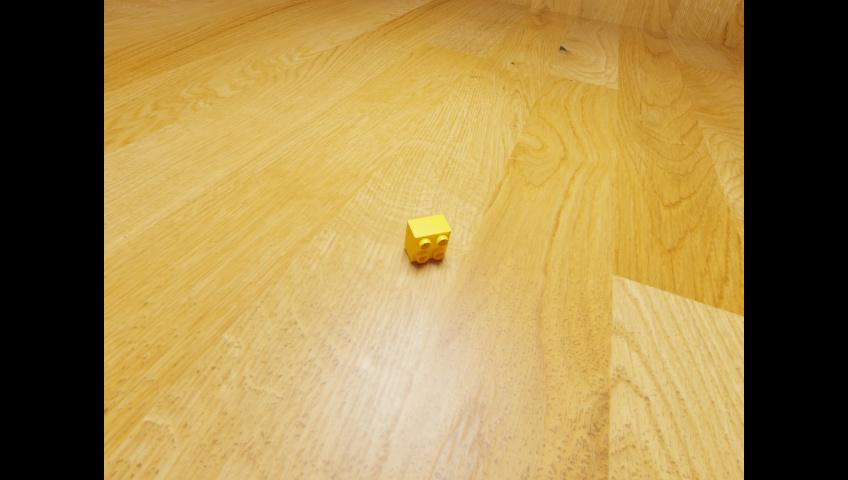2x2_yellow: (404, 214, 450, 262)
